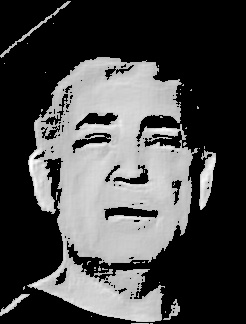nose_M_C: (106, 139, 151, 200)
